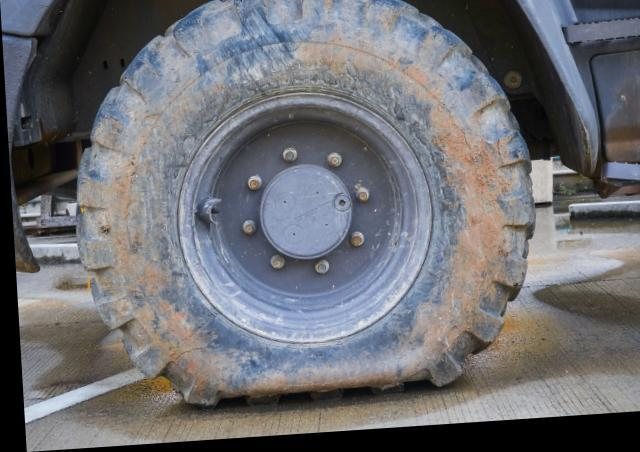tire flat: (67, 0, 532, 413)
